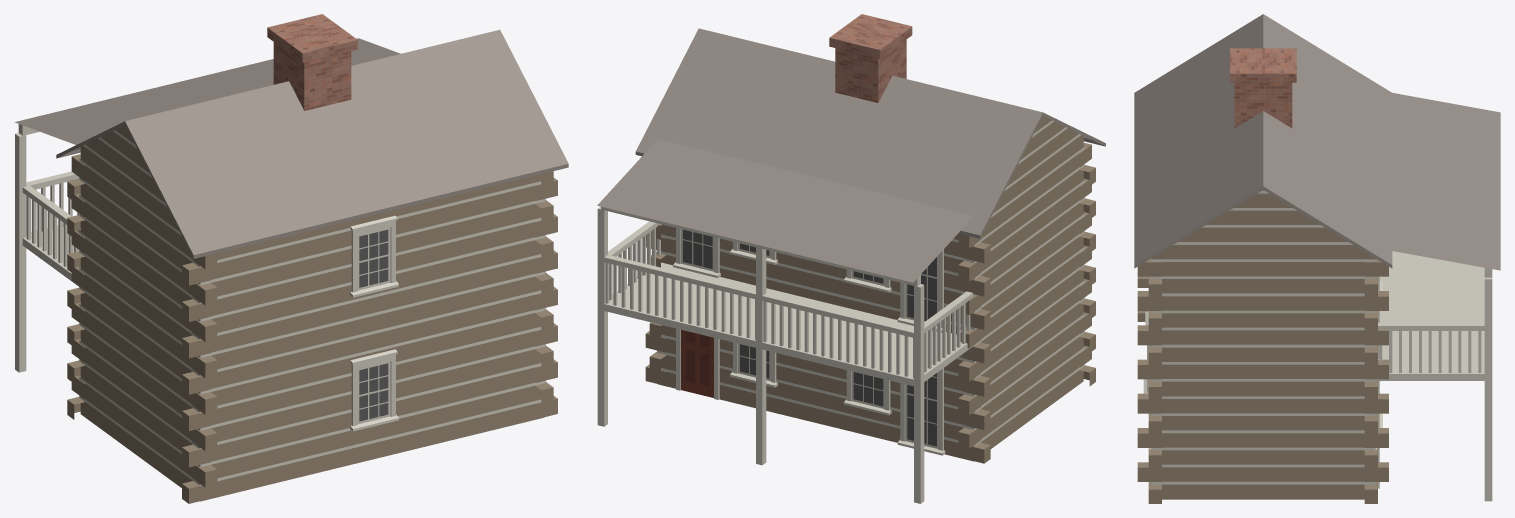
Rendered from first_fort_dearborn_soldiers_barracks_sw__first_fort_1803.glb.
The picture shows the model from 3 angles, left to right: view 1: azimuth 30°, elevation 25°; view 2: azimuth 150°, elevation 25°; view 3: azimuth 270°, elevation 25°; orthographic projection. The views are drawn at different scales.
Visible parts, largest first — view 1: first_fort_dearborn_soldiers_barracks_sw__first_fort_1803; view 2: first_fort_dearborn_soldiers_barracks_sw__first_fort_1803; view 3: first_fort_dearborn_soldiers_barracks_sw__first_fort_1803.
Part boxes in pixels (<box>): first_fort_dearborn_soldiers_barracks_sw__first_fort_1803: <box>14,14,568,503</box>; first_fort_dearborn_soldiers_barracks_sw__first_fort_1803: <box>597,14,1105,503</box>; first_fort_dearborn_soldiers_barracks_sw__first_fort_1803: <box>1134,14,1500,503</box>.
Size of the model in its own units: 7.34 by 7.15 by 6.6.
7 materials, 1 textured.
